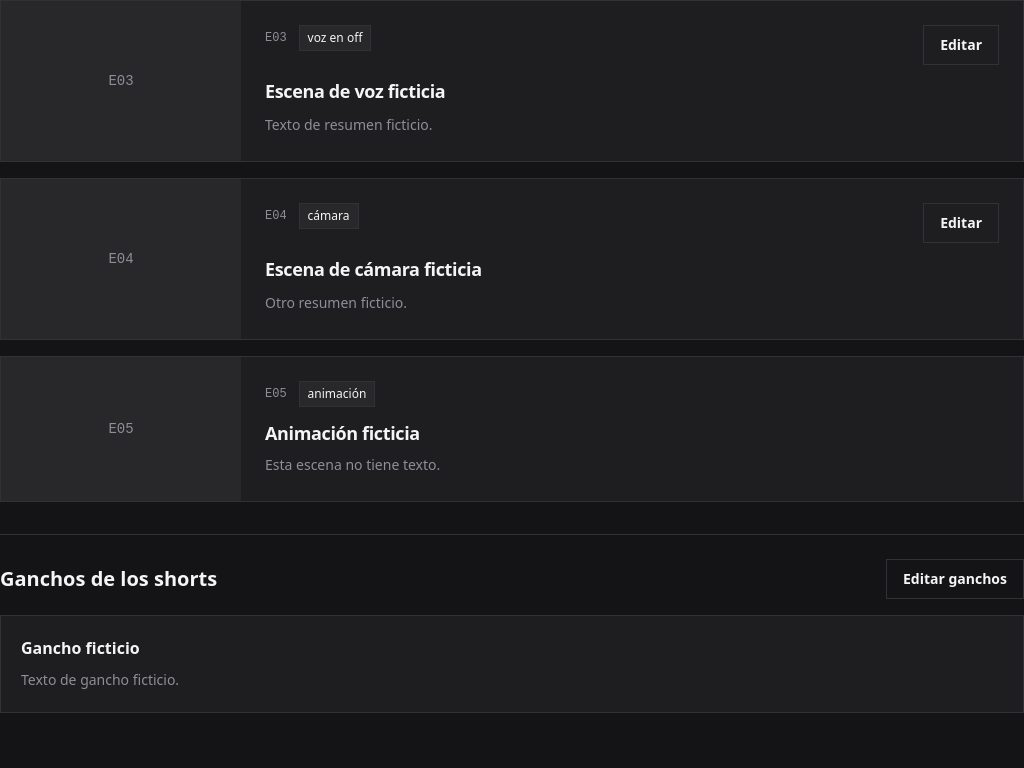
Test case: GuionEditable › con conflicto conserva la frase escrita y ofrece Recargar
Click the button with aria-label "Editar E03" at (961, 45), box [923, 25, 999, 65]
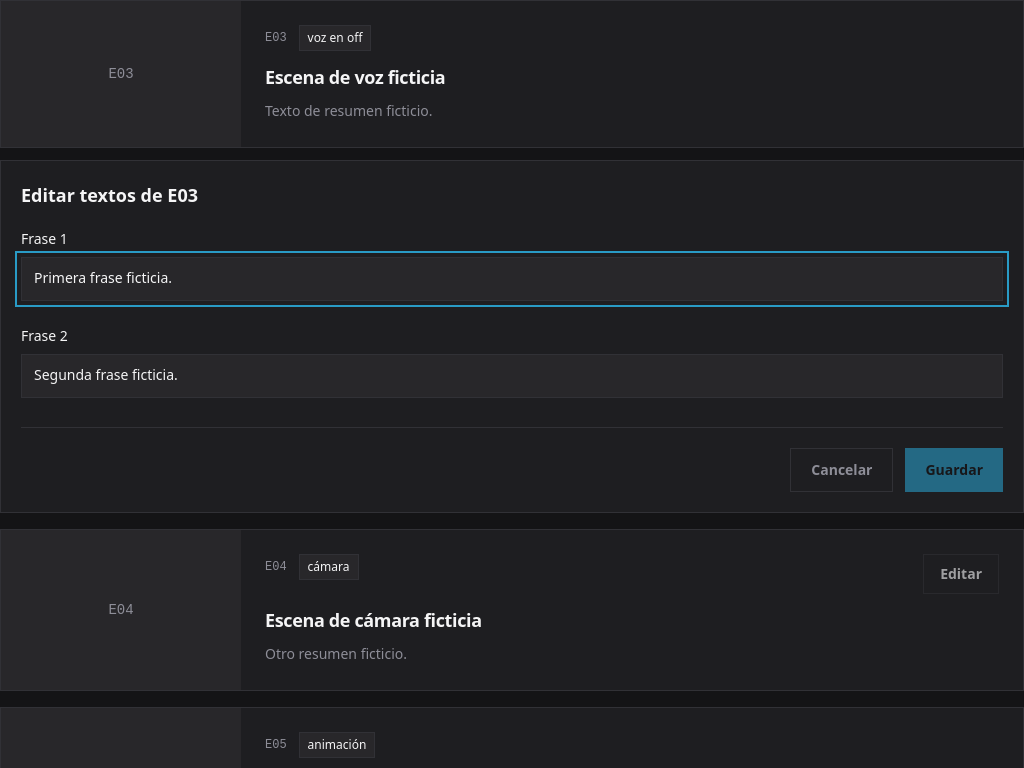
Replace the text in the text box labelled "Frase 2" with "Texto que no se pierde." at (512, 376), box [21, 354, 1003, 398]
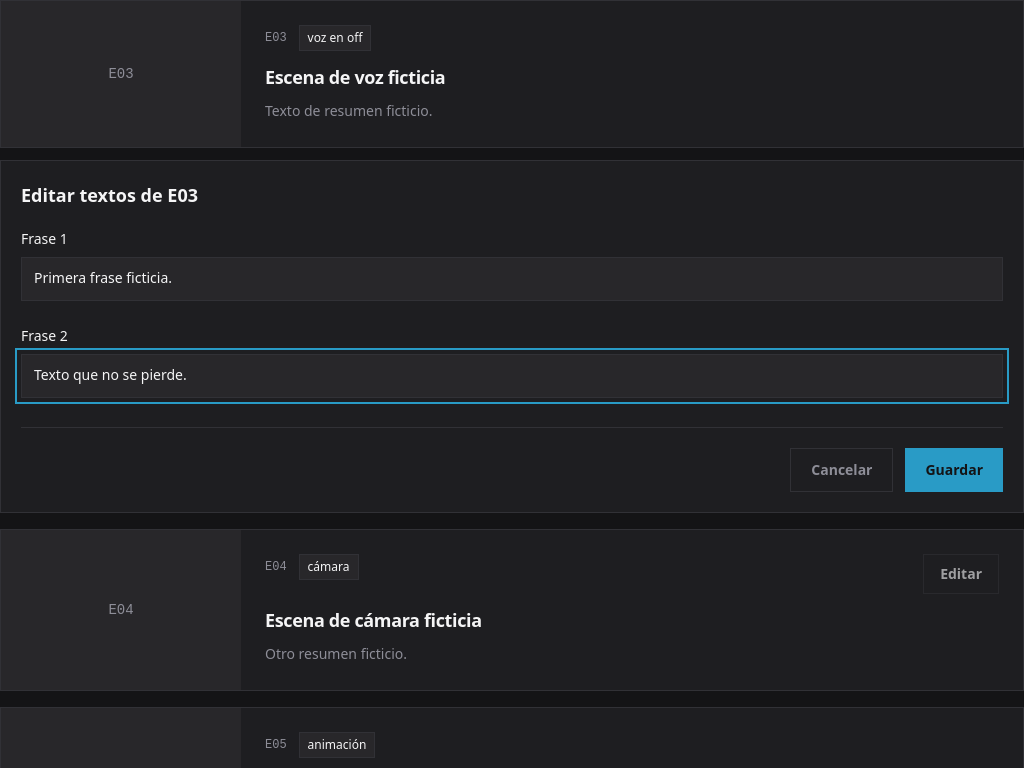
Click the button "Guardar" at (954, 470), box [906, 448, 1003, 492]
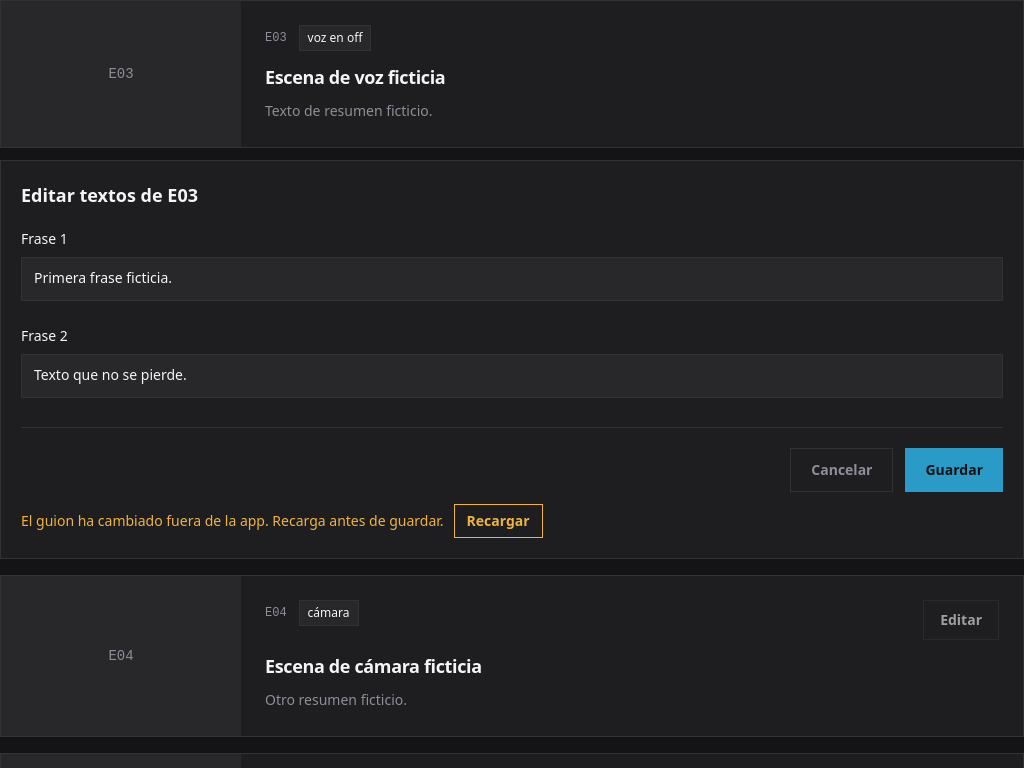
Now the text "El guion ha cambiado fuera de la app. Recarga antes de guardar." is shown, box [21, 511, 444, 530]
Now the button "Recargar" is shown, box [454, 504, 543, 538]
